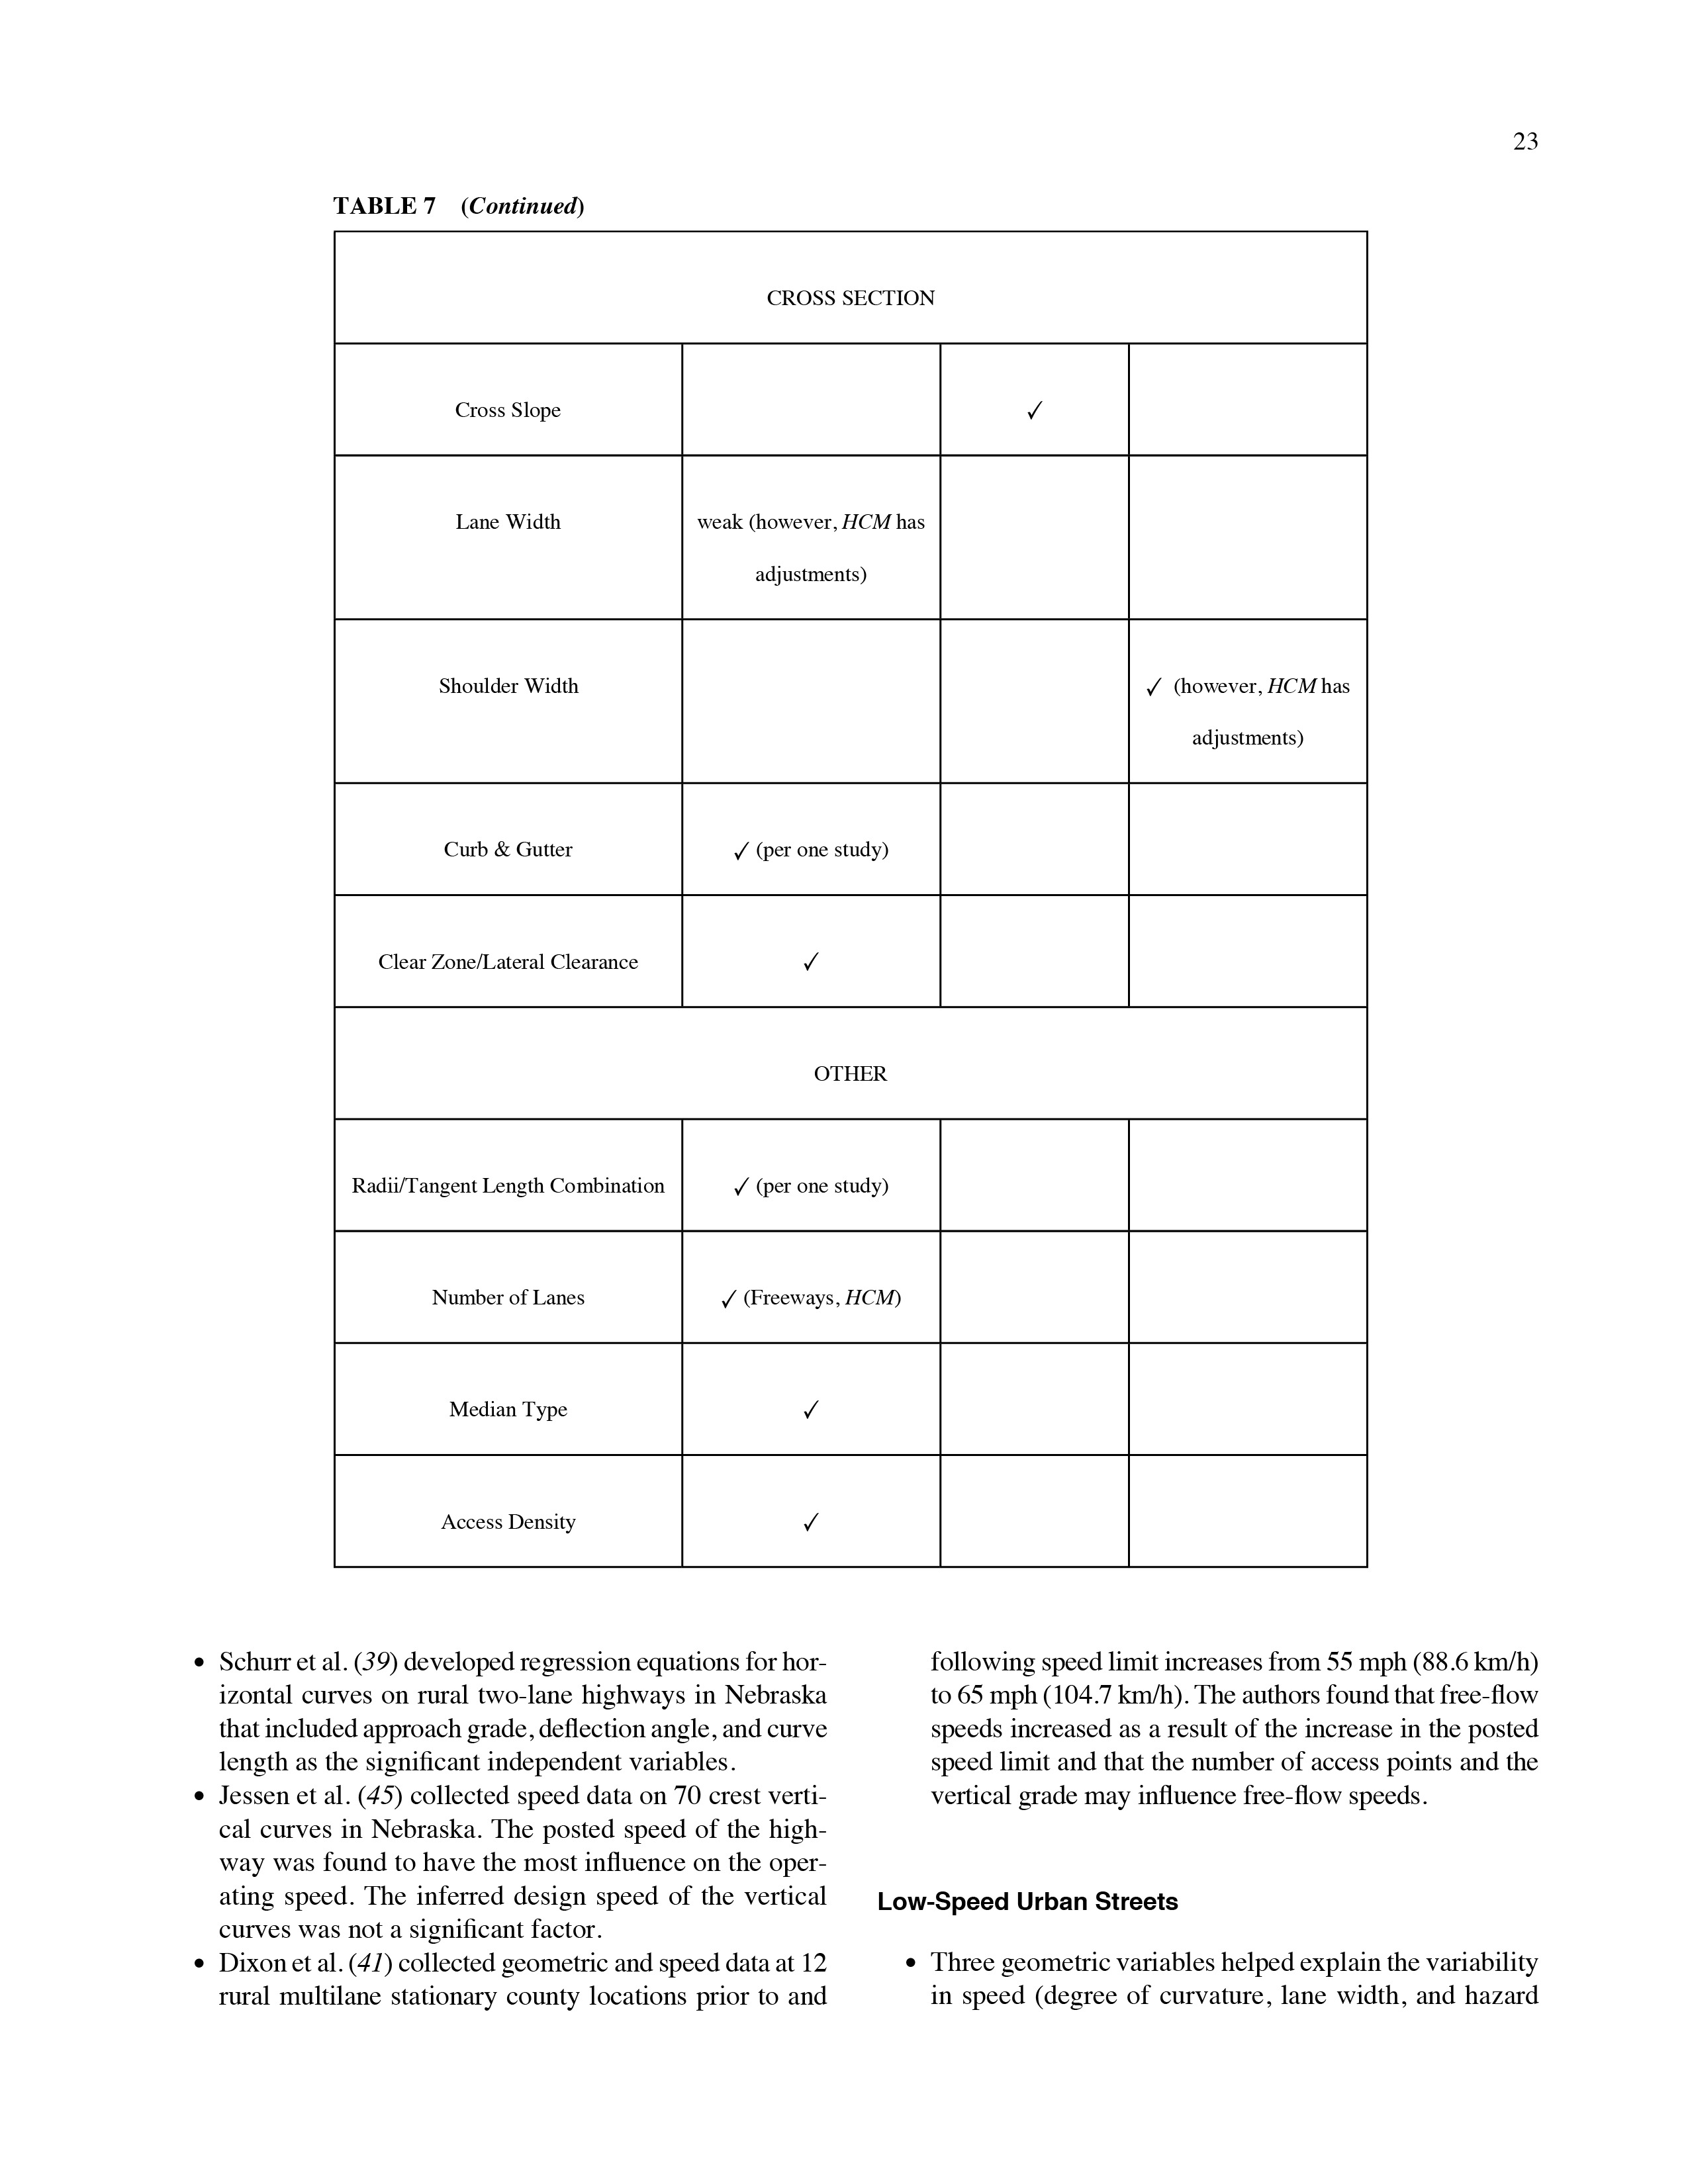list: (179, 1626, 839, 2024), (892, 1939, 1553, 2016)
section: (853, 1877, 1199, 1927)
table: (314, 175, 1424, 1587)
text: (922, 1626, 1557, 1824)
